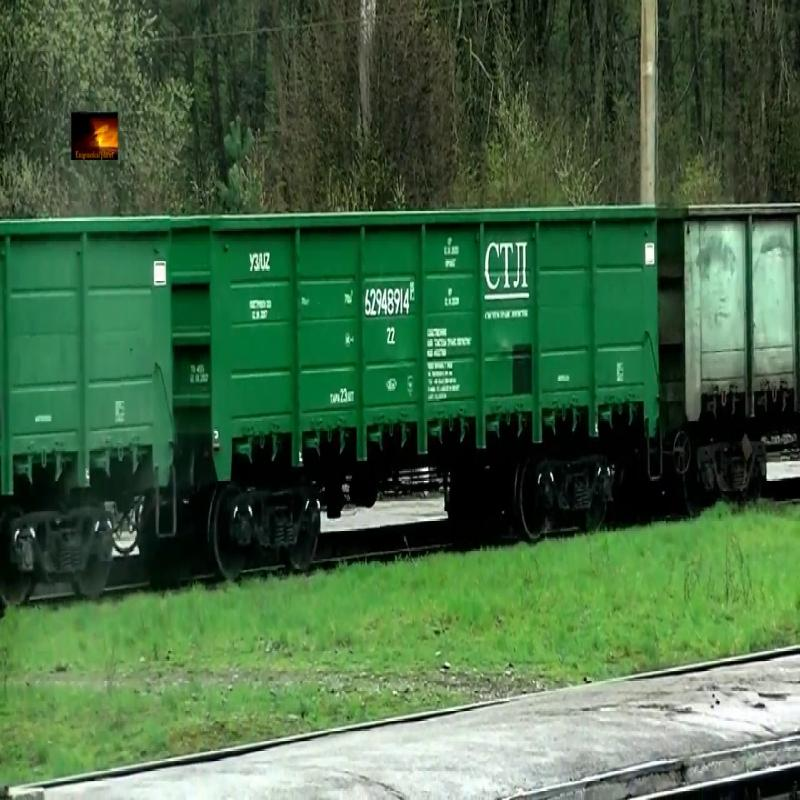train: (173, 211, 660, 490), (1, 216, 173, 512), (660, 200, 800, 440)
